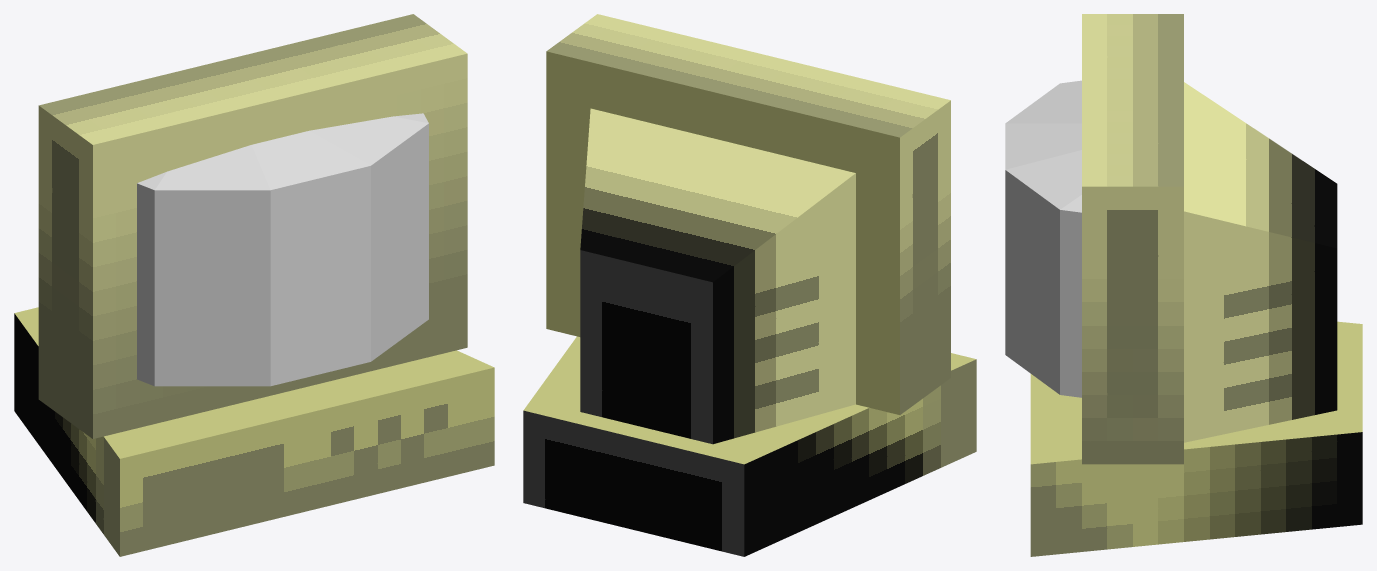
3 views of the same model, side by side, from view 1: azimuth 30°, elevation 25°; view 2: azimuth 150°, elevation 25°; view 3: azimuth 270°, elevation 25° (orthographic). The views are drawn at different scales.
Parts seen in each view (by area): view 1: cuboid, cylinder; view 2: cuboid; view 3: cuboid, cylinder.
Boxes of the visible parts, box(x1,y1,x2,y2) form: cuboid: box(14, 14, 494, 556); cylinder: box(137, 113, 428, 386); cuboid: box(523, 14, 976, 556); cuboid: box(1030, 14, 1362, 556); cylinder: box(1005, 80, 1081, 397).
Bounding box in the file's own units: 100 × 100 × 87.5.
Materials: 1 (1 with a texture image).
